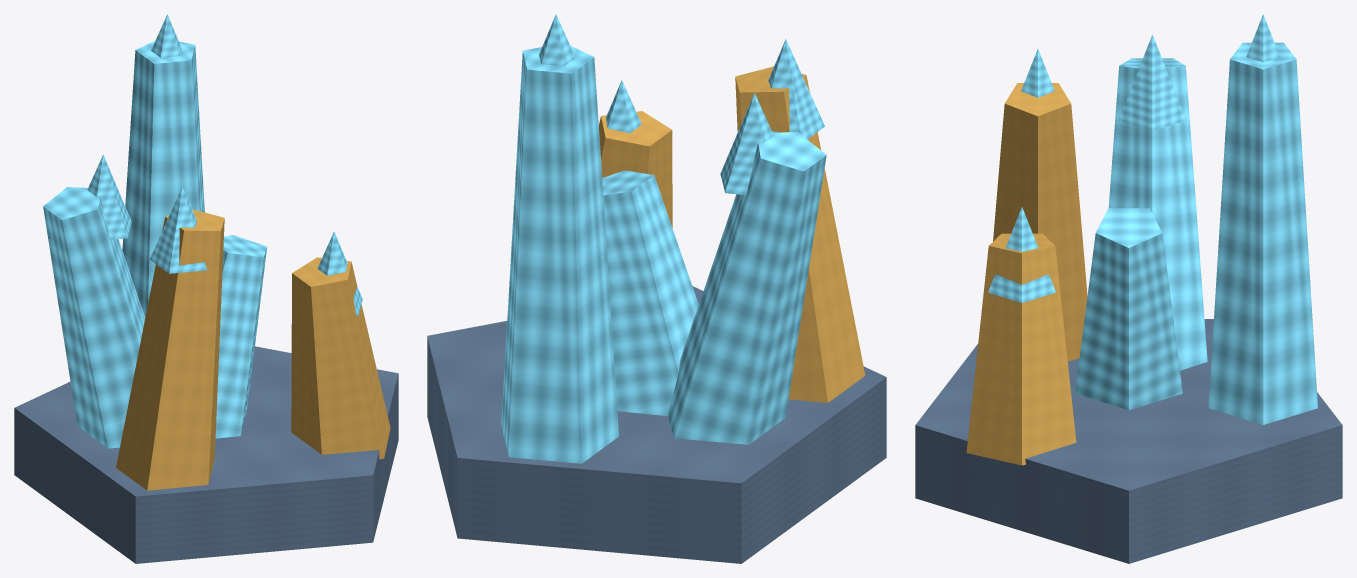
File: atlas100-s051-a04.lod1.glb
3 renders of one model, left to right at view 1: azimuth 30°, elevation 25°; view 2: azimuth 150°, elevation 25°; view 3: azimuth 270°, elevation 25°, orthographic. The views are drawn at different scales.
Visible parts, largest first — view 1: atlas100-s051-a04:part-000, atlas100-s051-a04:part-003, atlas100-s051-a04:part-009, atlas100-s051-a04:part-007, atlas100-s051-a04:part-005, atlas100-s051-a04:part-001, atlas100-s051-a04:part-004, atlas100-s051-a04:part-010, atlas100-s051-a04:part-008, atlas100-s051-a04:part-006; view 2: atlas100-s051-a04:part-000, atlas100-s051-a04:part-005, atlas100-s051-a04:part-009, atlas100-s051-a04:part-001, atlas100-s051-a04:part-003, atlas100-s051-a04:part-007, atlas100-s051-a04:part-010, atlas100-s051-a04:part-004, atlas100-s051-a04:part-006, atlas100-s051-a04:part-008; view 3: atlas100-s051-a04:part-000, atlas100-s051-a04:part-005, atlas100-s051-a04:part-007, atlas100-s051-a04:part-001, atlas100-s051-a04:part-009, atlas100-s051-a04:part-003, atlas100-s051-a04:part-010, atlas100-s051-a04:part-008, atlas100-s051-a04:part-004, atlas100-s051-a04:part-006.
Part boxes in pixels (x1,y1,x2,y2): atlas100-s051-a04:part-000: (14, 346, 398, 563); atlas100-s051-a04:part-003: (116, 209, 224, 490); atlas100-s051-a04:part-009: (43, 187, 145, 448); atlas100-s051-a04:part-007: (291, 257, 390, 459); atlas100-s051-a04:part-005: (122, 41, 204, 317); atlas100-s051-a04:part-001: (215, 235, 267, 438); atlas100-s051-a04:part-004: (150, 186, 207, 273); atlas100-s051-a04:part-010: (87, 154, 131, 239); atlas100-s051-a04:part-008: (317, 231, 362, 315); atlas100-s051-a04:part-006: (151, 14, 181, 57); atlas100-s051-a04:part-000: (427, 286, 886, 563); atlas100-s051-a04:part-005: (501, 46, 618, 463); atlas100-s051-a04:part-009: (668, 131, 826, 444); atlas100-s051-a04:part-001: (602, 170, 698, 416); atlas100-s051-a04:part-003: (735, 66, 865, 402); atlas100-s051-a04:part-007: (599, 111, 672, 227); atlas100-s051-a04:part-010: (720, 93, 773, 194); atlas100-s051-a04:part-004: (768, 39, 824, 139); atlas100-s051-a04:part-006: (539, 14, 575, 66); atlas100-s051-a04:part-008: (606, 80, 641, 132); atlas100-s051-a04:part-000: (915, 319, 1342, 563); atlas100-s051-a04:part-005: (1208, 42, 1317, 424); atlas100-s051-a04:part-007: (966, 233, 1076, 465); atlas100-s051-a04:part-001: (1075, 208, 1182, 409); atlas100-s051-a04:part-009: (1108, 58, 1207, 370); atlas100-s051-a04:part-003: (993, 83, 1087, 361); atlas100-s051-a04:part-010: (1118, 34, 1186, 130); atlas100-s051-a04:part-008: (988, 207, 1055, 302); atlas100-s051-a04:part-004: (1021, 49, 1054, 97); atlas100-s051-a04:part-006: (1246, 14, 1279, 62).
Size of the model in its own units: 1 by 1.21 by 1.02.
Materials: 3 (3 with a texture image).
